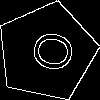O: (21, 27, 76, 74)
